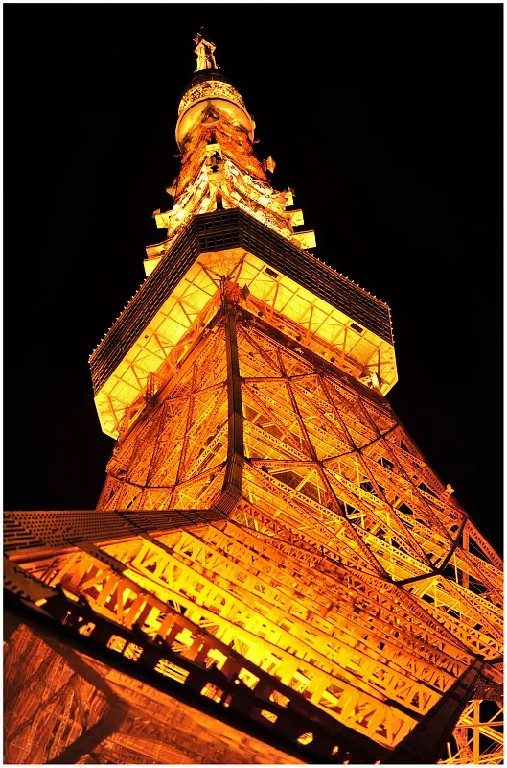Tokyo: (1, 24, 501, 762)
